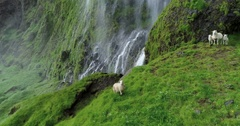sheep: (211, 29, 223, 45), (112, 79, 123, 96), (222, 34, 229, 45), (206, 34, 213, 44)
